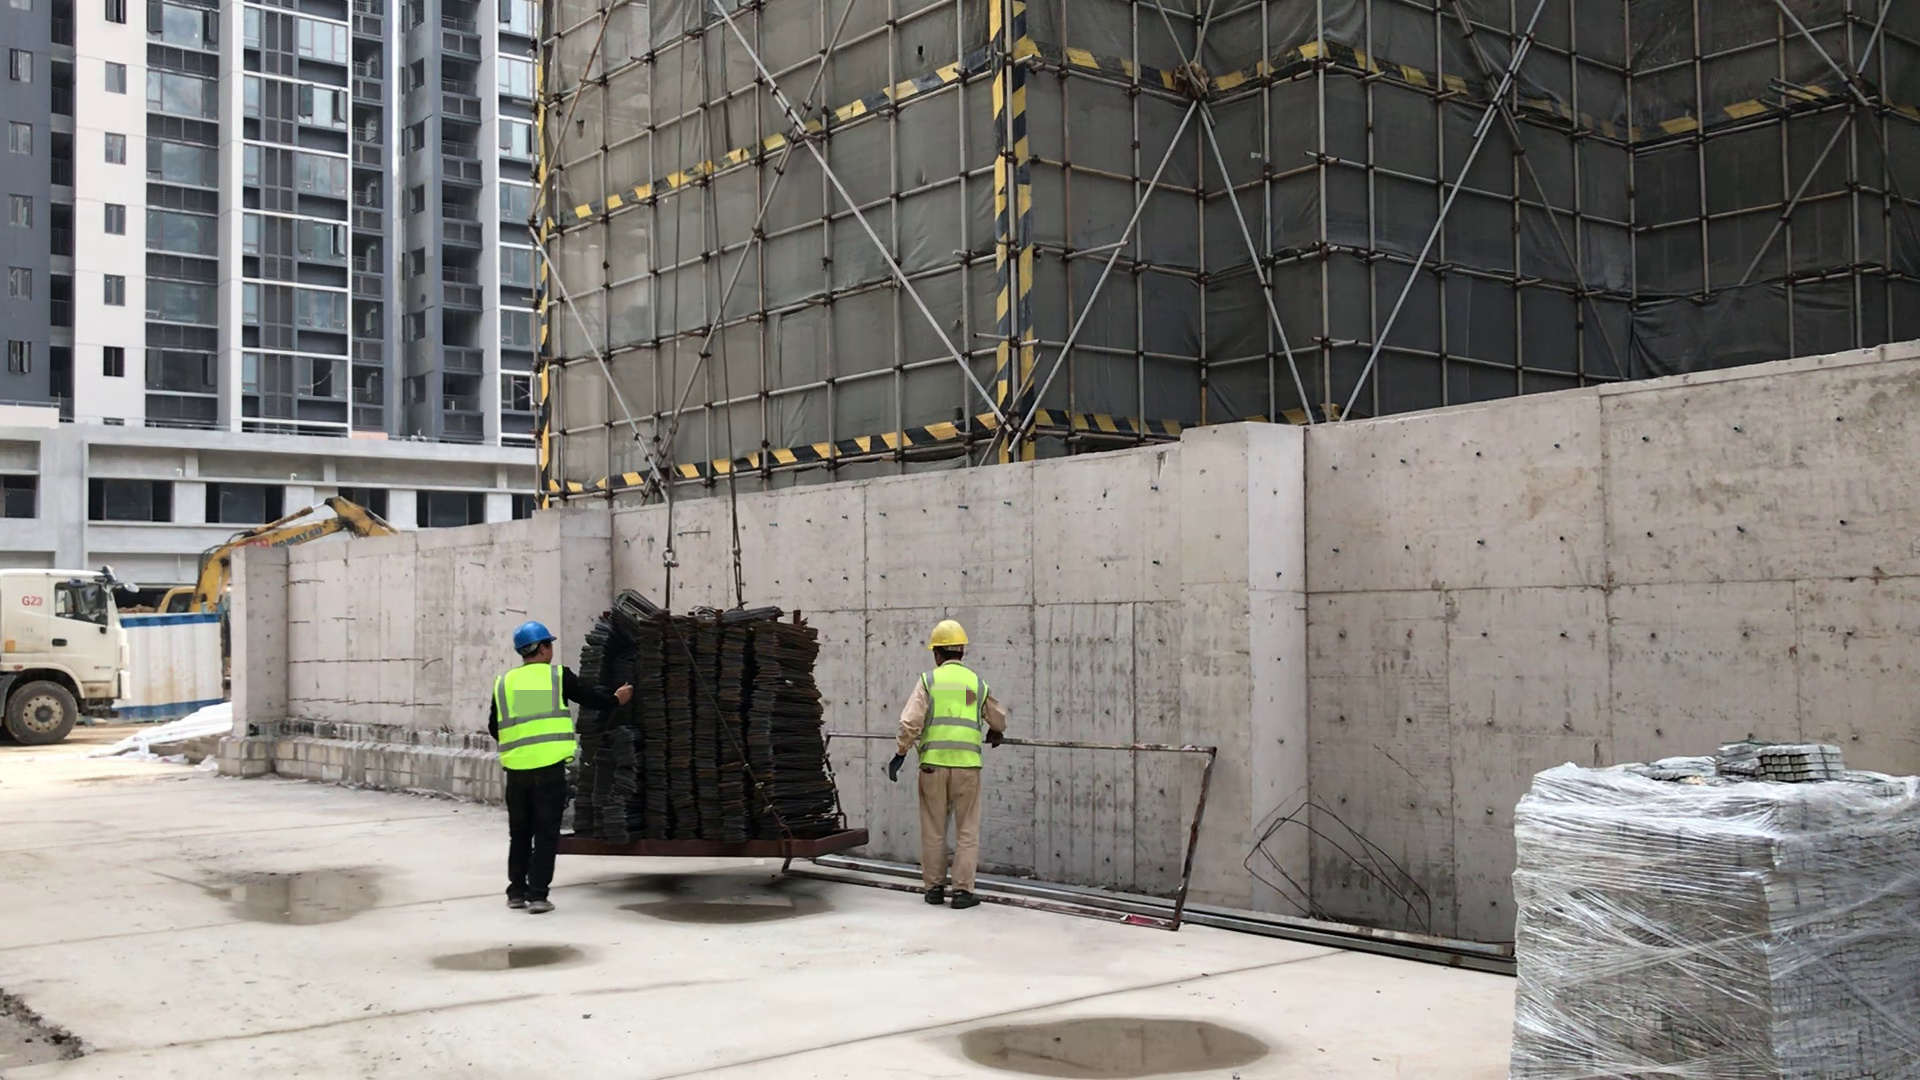helmet: (922, 612, 984, 658), (505, 619, 560, 654)
person: (475, 609, 583, 914), (895, 622, 1000, 908)
vest: (489, 674, 573, 768), (924, 671, 980, 765)
